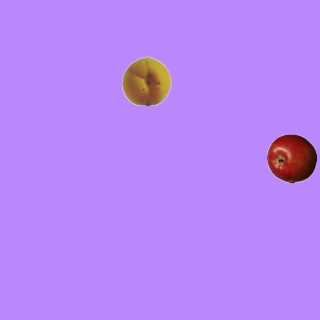Apple Braeburn: (266, 133, 316, 183)
Peach 2: (121, 55, 171, 105)
